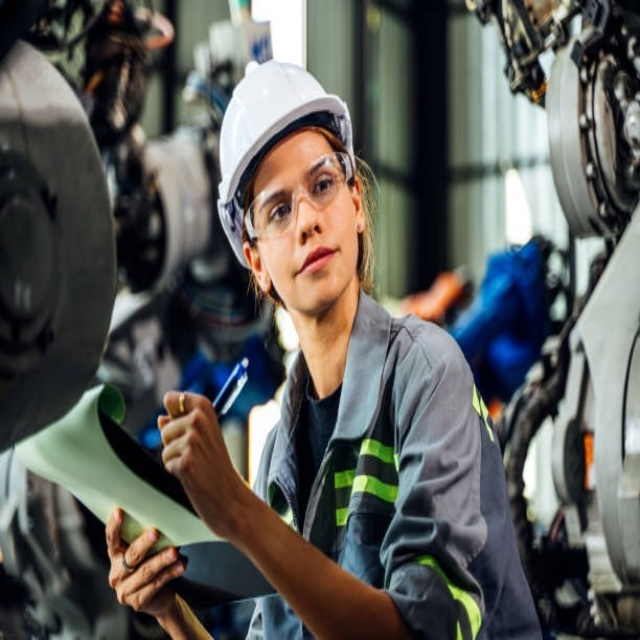Gafas: (244, 152, 354, 245)
Sin_guantes: (154, 384, 243, 532), (105, 503, 191, 625)
Sin_mascara: (287, 237, 345, 301)
